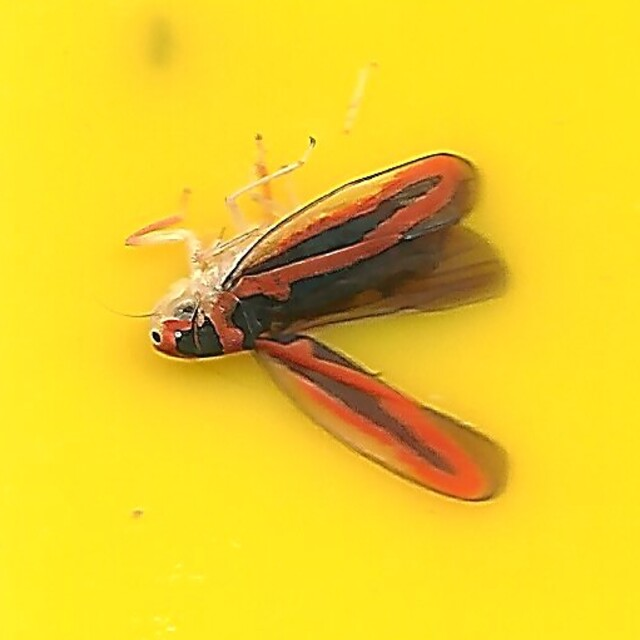Hemiptera: (125, 131, 515, 509)
